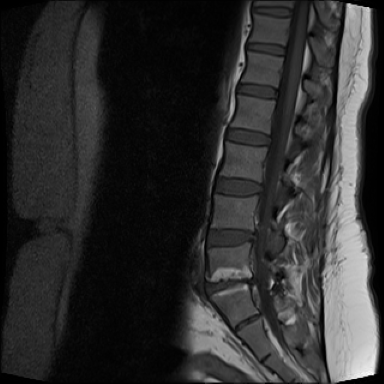Lumbar Disc Bulge (LDB): (195, 258, 266, 302), (200, 221, 273, 253)
Normal IVD: (215, 123, 272, 150), (210, 173, 266, 199), (230, 77, 280, 103), (239, 37, 289, 61), (248, 2, 295, 20)
Spinal Stenosis (SS): (236, 217, 265, 252), (235, 263, 261, 299)
